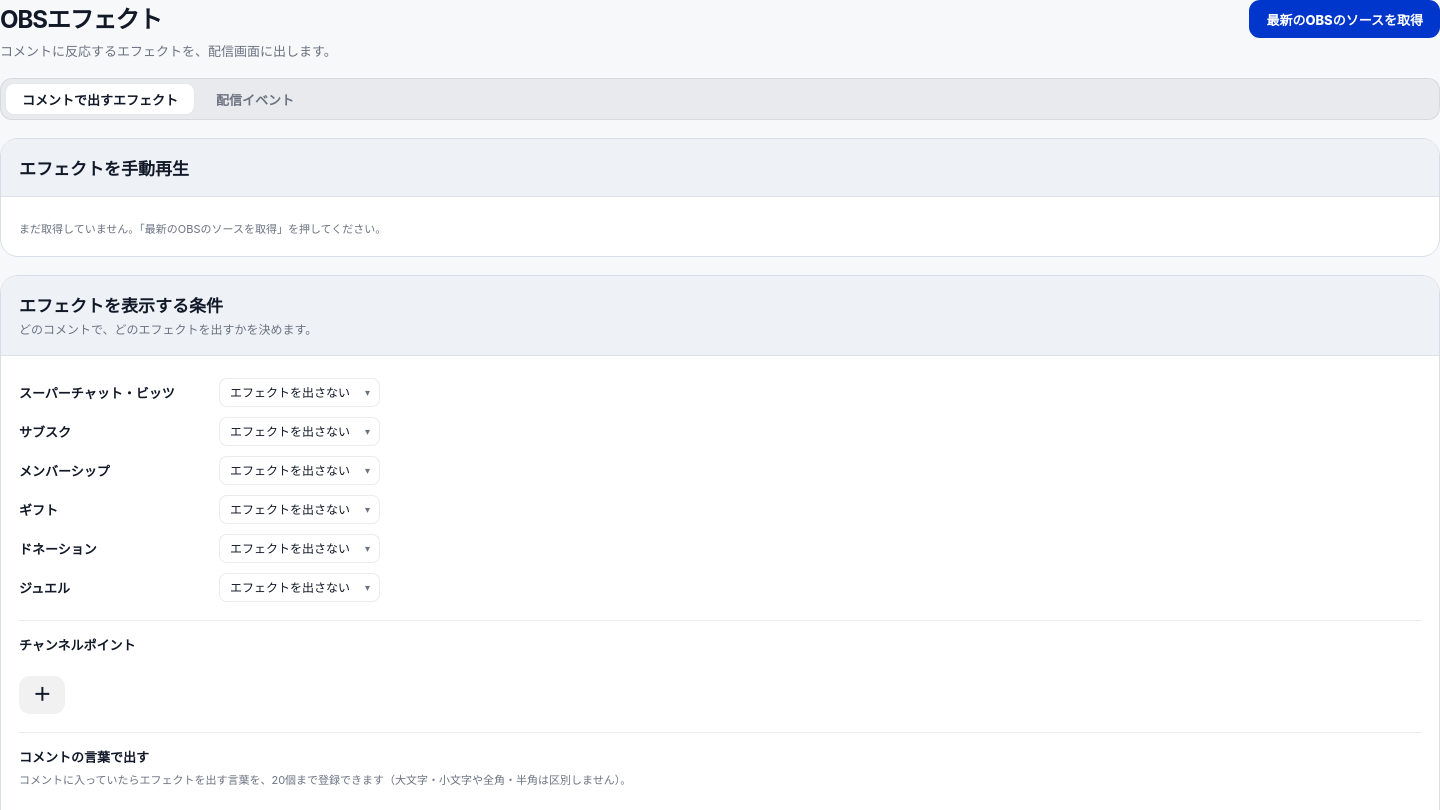
Scenario: 061a: ObsEffectsScreen › ⚠⚠ 061p: 「配信イベント」タブは準備中（同梱イベントが 0 本のときの見え方）
What coordinates should you click on to do the following:
click the tab "配信イベント"
I would click on:
 (255, 99)
Its box is [199,83,311,115].
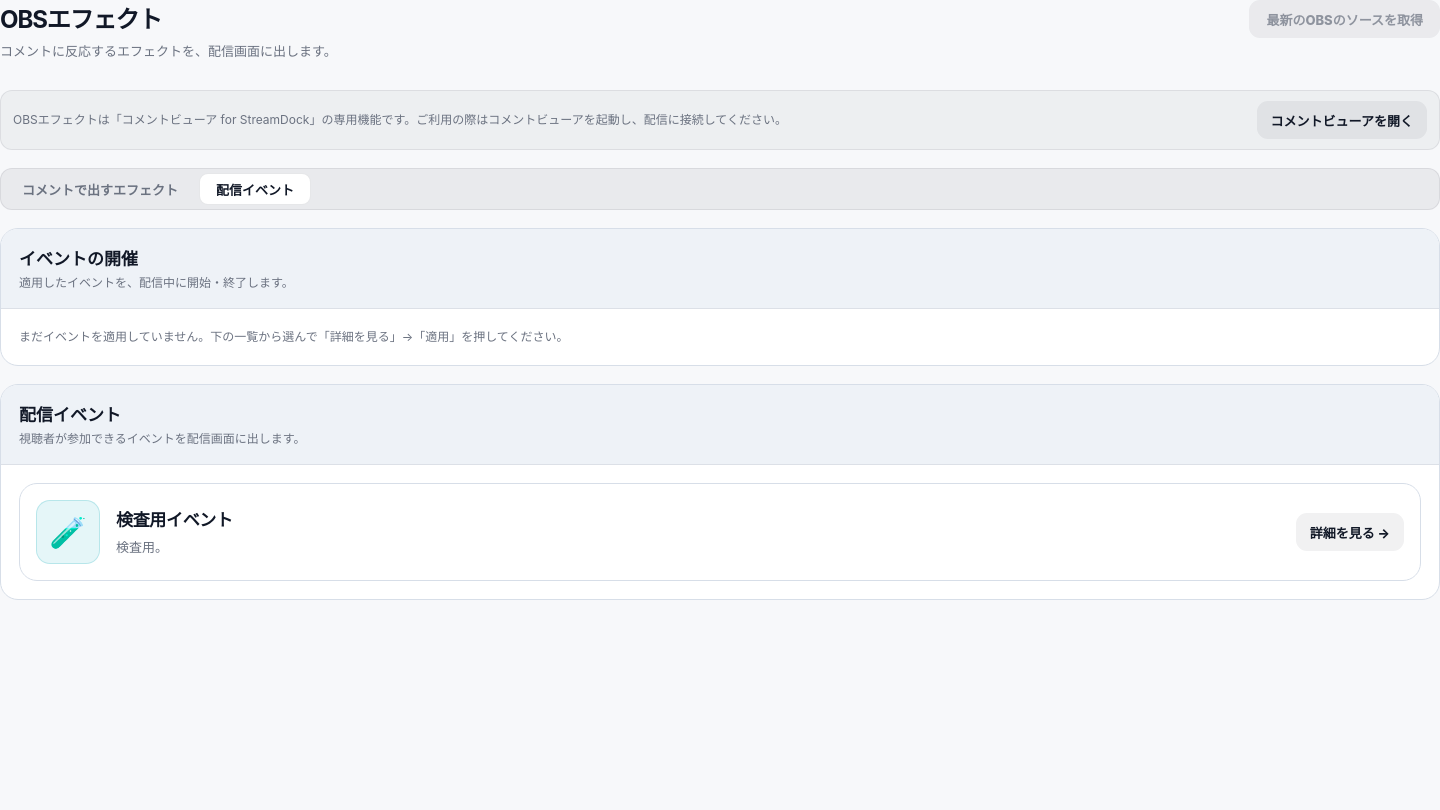
Check: the heading "エフェクトを表示する条件" is gone
